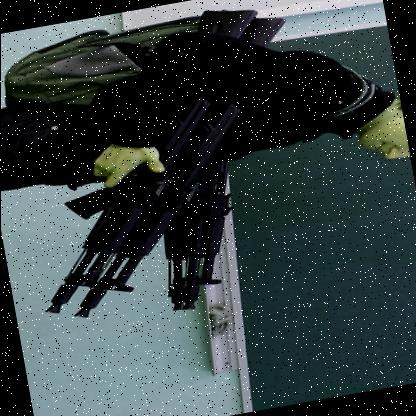rifle: (1, 2, 298, 314), (94, 9, 337, 318)
